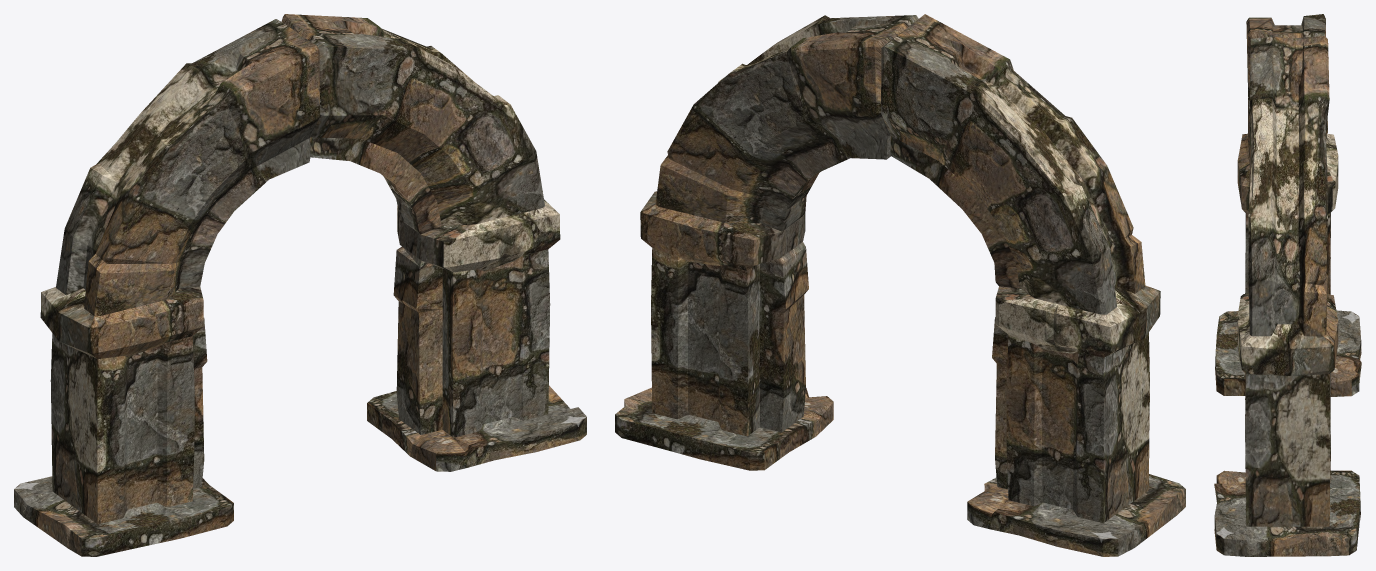
The model's file is MarcoPuerta.obj.
3 views of the same model, side by side, from view 1: azimuth 30°, elevation 25°; view 2: azimuth 150°, elevation 25°; view 3: azimuth 270°, elevation 25° (orthographic). The views are drawn at different scales.
Parts seen in each view (by area): view 1: 78886_Material.003; view 2: 78886_Material.003; view 3: 78886_Material.003.
Part boxes in pixels (box(x1,y1,x2,y2)): 78886_Material.003: box(14, 14, 586, 556); 78886_Material.003: box(615, 14, 1185, 556); 78886_Material.003: box(1214, 14, 1361, 556).
Size of the model in its own units: 36.76 by 30.32 by 9.95.
Materials: 1 (1 with a texture image).
